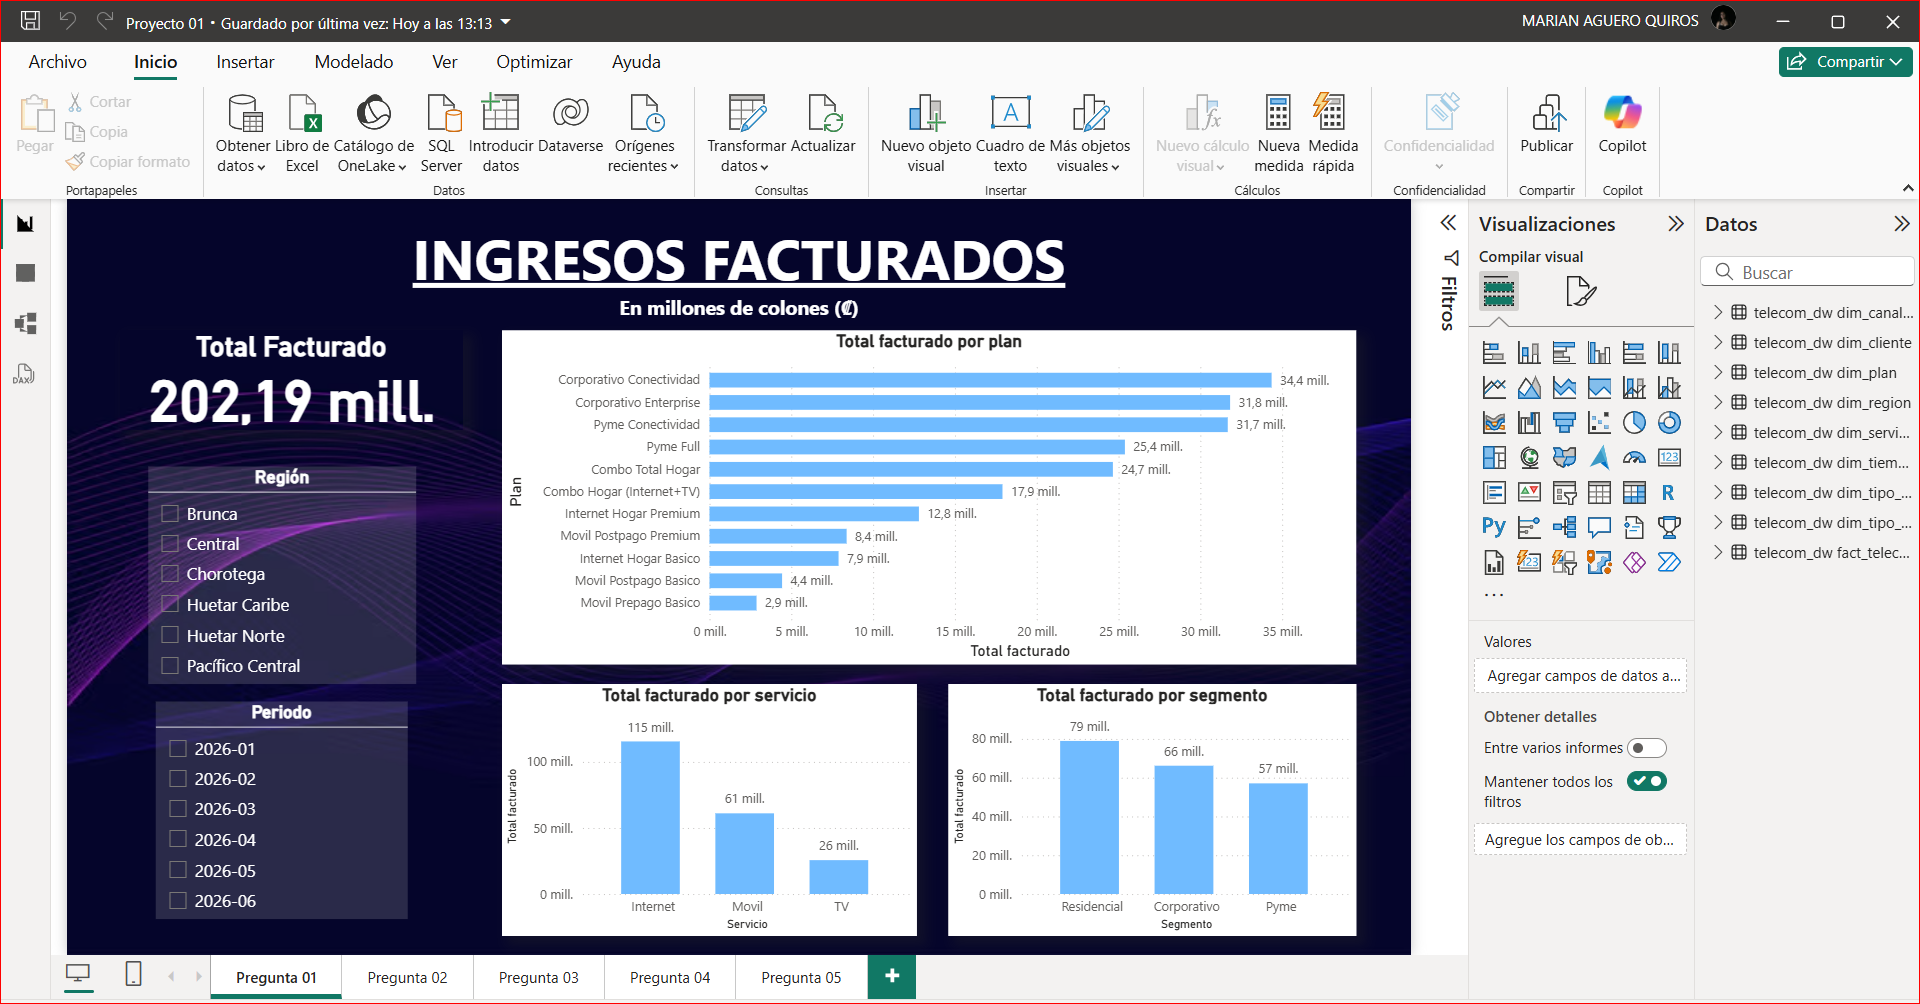

This screenshot's page, from the dashboard's own definition file:
{"tool":"powerbi","page":{"name":"Pregunta 01","canvas":[1280,720],"ordinal":0},"visuals":[{"type":"card","title":"Total Facturado","fields":{"Values":["telecom_dw fact_telecomunicaciones.Total facturado"]},"box":[50,125,327.5,95],"z":0},{"type":"clusteredBarChart","title":"Total facturado por plan","fields":{"Category":["telecom_dw dim_plan.nombre_plan"],"Y":["telecom_dw fact_telecomunicaciones.Total facturado"]},"box":[413.8,125,813.8,318.8],"z":1000},{"type":"clusteredColumnChart","title":"Total facturado por servicio","fields":{"Y":["telecom_dw fact_telecomunicaciones.Total facturado"],"Category":["telecom_dw dim_servicio.nombre_servicio"]},"box":[413.8,462.5,395,240],"z":2000},{"type":"clusteredColumnChart","fields":{"Category":["telecom_dw dim_cliente.segmento"],"Y":["telecom_dw fact_telecomunicaciones.Total facturado"]},"box":[838.8,462.5,388.8,240],"z":3000},{"type":"slicer","title":"Región","fields":{"Values":["telecom_dw dim_region.region"]},"box":[77.5,255,255,207.5],"z":4000},{"type":"slicer","title":"Periodo","fields":{"Values":["telecom_dw dim_tiempo.anio_mes"]},"box":[85,478.8,240,207.5],"z":5000},{"type":"textbox","box":[0,13.8,1280,111.2],"z":6000}]}

Visuals, with their boxes on the page's 1280x720 design canvas (x1, y1, x2, y2). These are canvas units, not pixel positions in the 1920x1004 screenshot, which may show the page scaled, cropped or inside an application window:
"Total Facturado" card: locate(50, 125, 378, 220)
"Total facturado por plan" clusteredBarChart: locate(414, 125, 1228, 444)
"Total facturado por servicio" clusteredColumnChart: locate(414, 462, 809, 702)
clusteredColumnChart - telecom_dw dim_cliente.segmento x telecom_dw fact_telecomunicaciones.Total facturado: locate(839, 462, 1228, 702)
"Región" slicer: locate(78, 255, 332, 462)
"Periodo" slicer: locate(85, 479, 325, 686)
textbox: locate(0, 14, 1280, 125)
